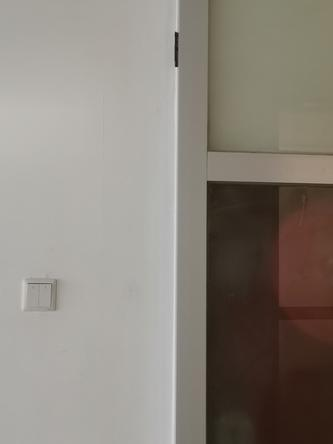switch: (38, 282, 56, 310), (25, 282, 40, 309)
